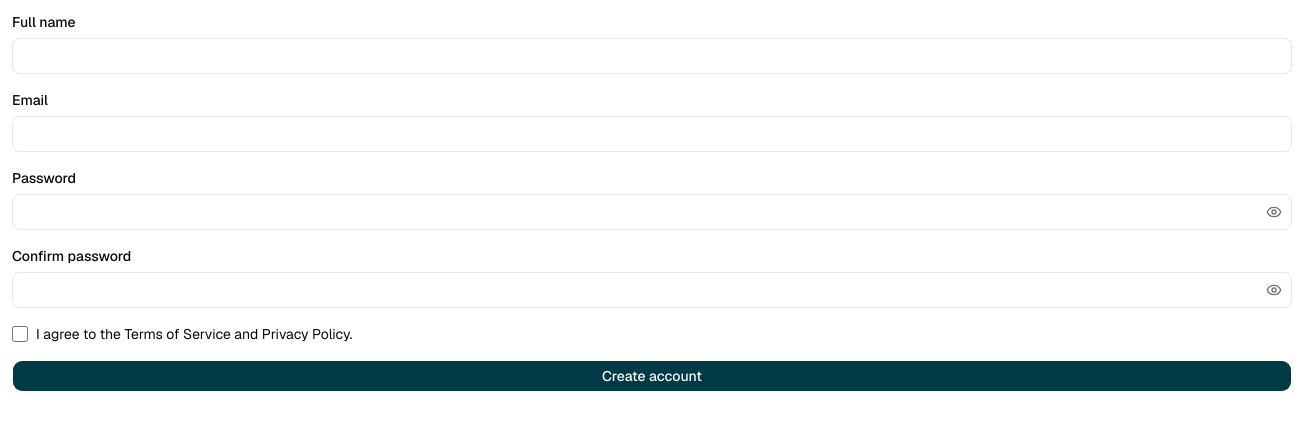
Test: RegisterForm › shows the service's error message on a duplicate email
This screenshot has width=1304, height=444.
Type "Ama Boateng" into the field labelled "Full name".
click(652, 56); type("Ama Boateng")  # box left=12, top=38, right=1292, bottom=74
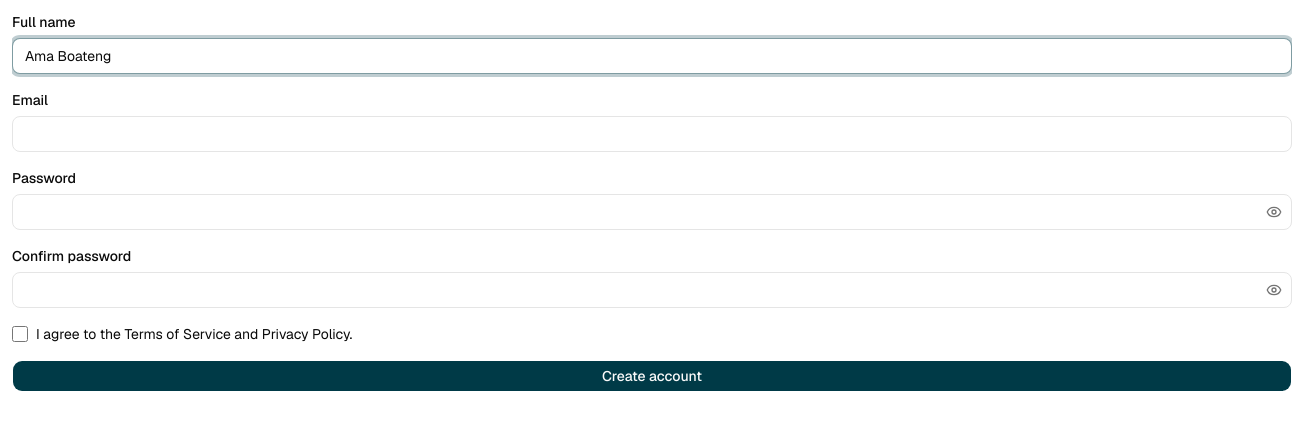
Type "ama@example.com" into the field labelled "Email".
click(652, 134); type("ama@example.com")  # box left=12, top=116, right=1292, bottom=152
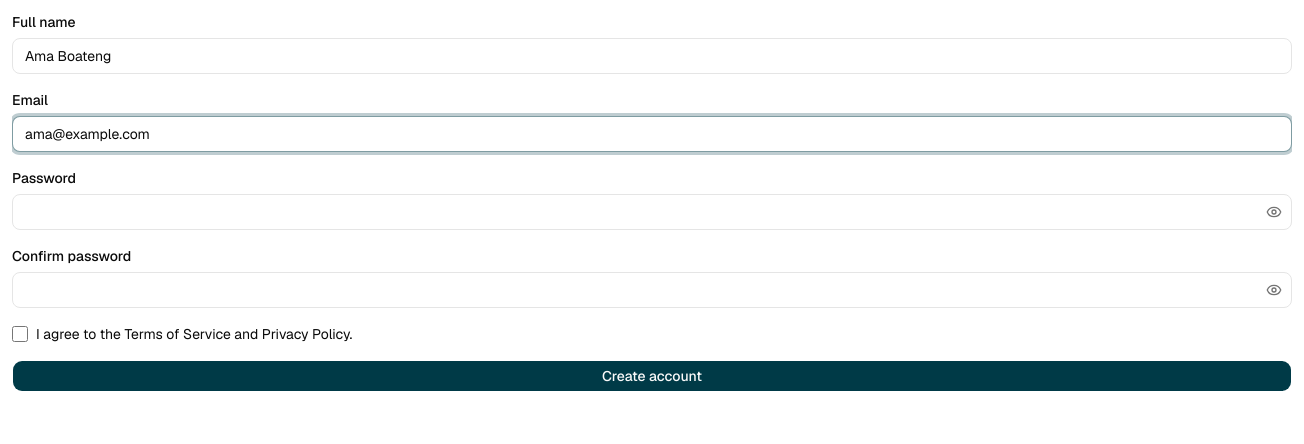
Type "Password123" into the password field labelled "Password".
click(652, 212); type("Password123")  # box left=12, top=194, right=1292, bottom=230
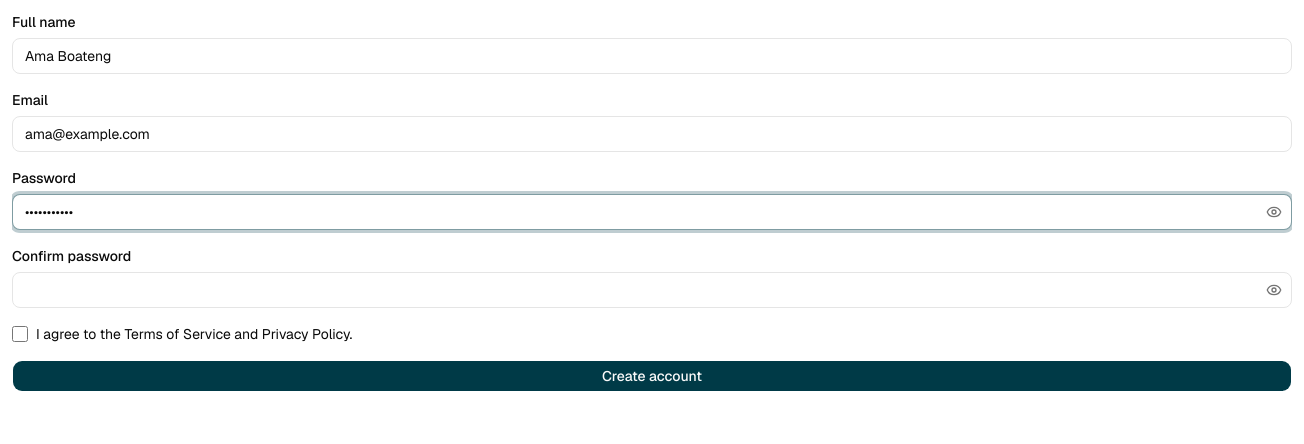
Type "Password123" into the password field labelled "Confirm password".
click(652, 290); type("Password123")  # box left=12, top=272, right=1292, bottom=308
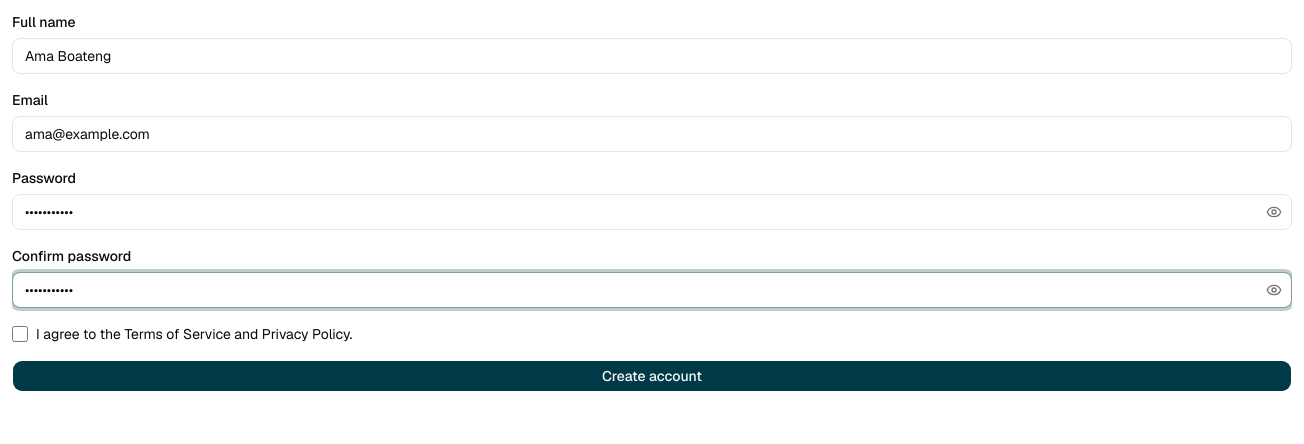
Click the checkbox labelled "I agree to the Terms of Service and Privacy Policy.".
click(20, 334)  # box left=12, top=326, right=28, bottom=342
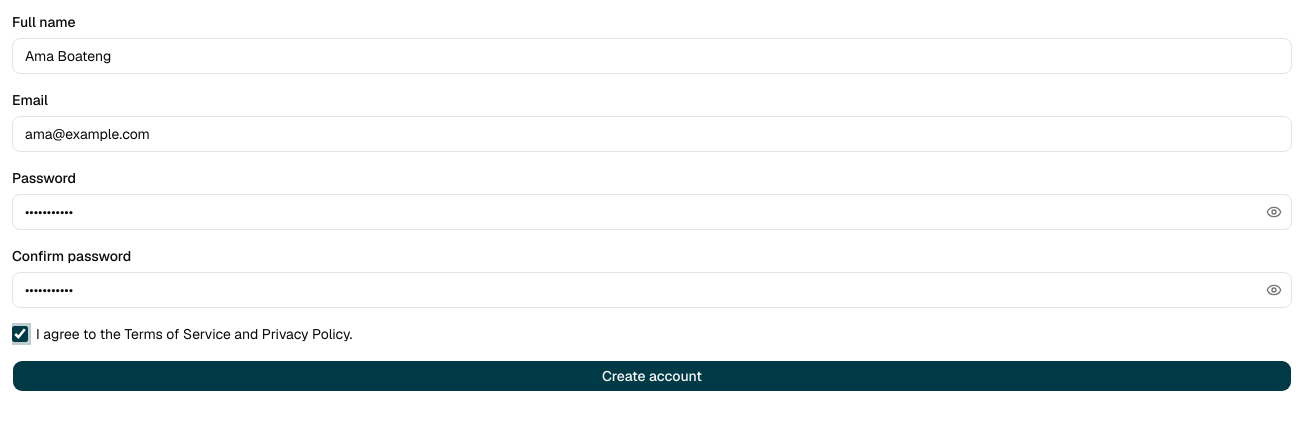
Click the button "Create account".
click(652, 376)  # box left=12, top=360, right=1292, bottom=392
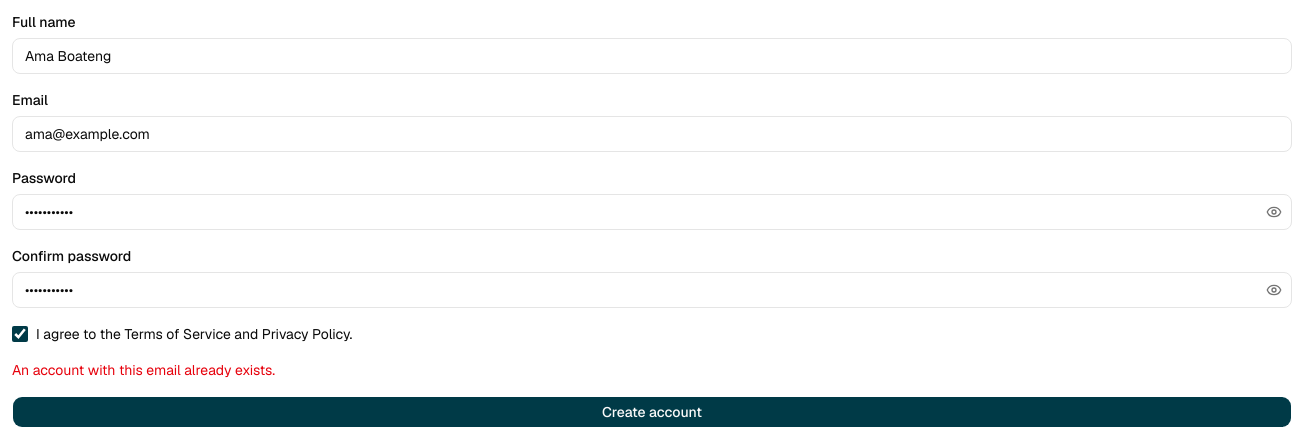
expect the text "An account with this email already exists." is shown: met, box left=12, top=361, right=275, bottom=379
